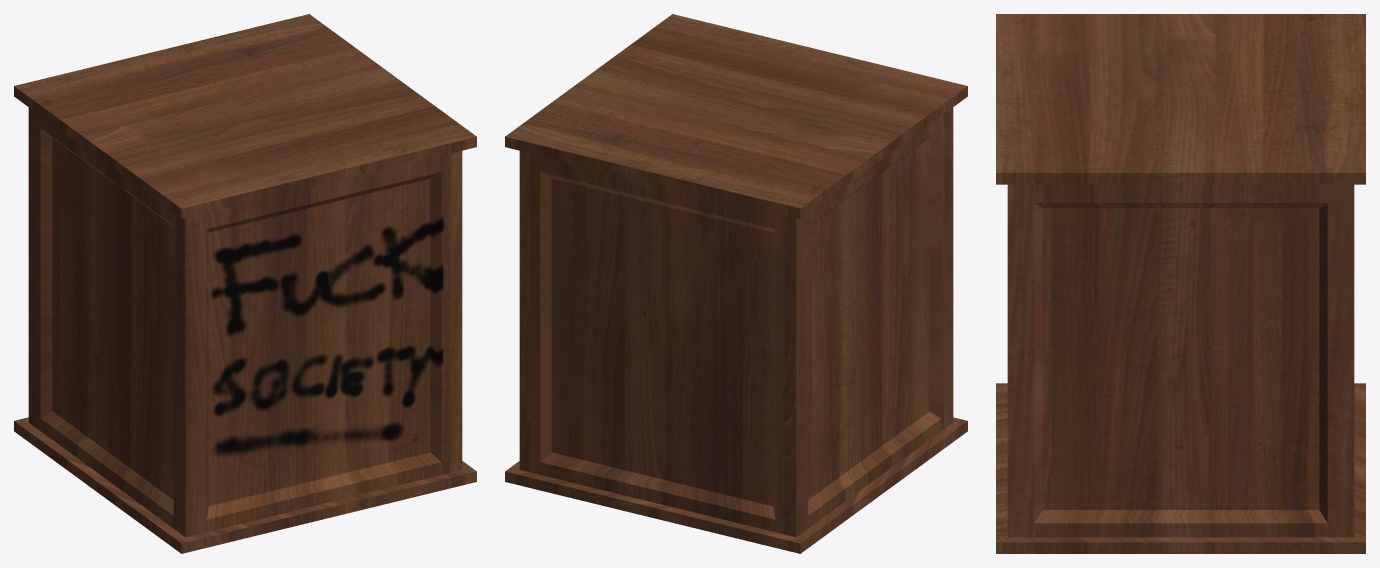
Rendered from Sidetable.glb.
3 renders of one model, left to right at view 1: azimuth 30°, elevation 25°; view 2: azimuth 150°, elevation 25°; view 3: azimuth 270°, elevation 25°, orthographic. The views are drawn at different scales.
Visible parts, largest first — view 1: Cube.002; view 2: Cube.002; view 3: Cube.002.
Boxes of the visible parts, x1,y1,x2,y2 form: Cube.002: (14,14,476,553); Cube.002: (505,14,967,553); Cube.002: (996,14,1365,553).
Bounding box in the file's own units: 1.8 × 2.01 × 1.77.
1 material, 1 textured.
